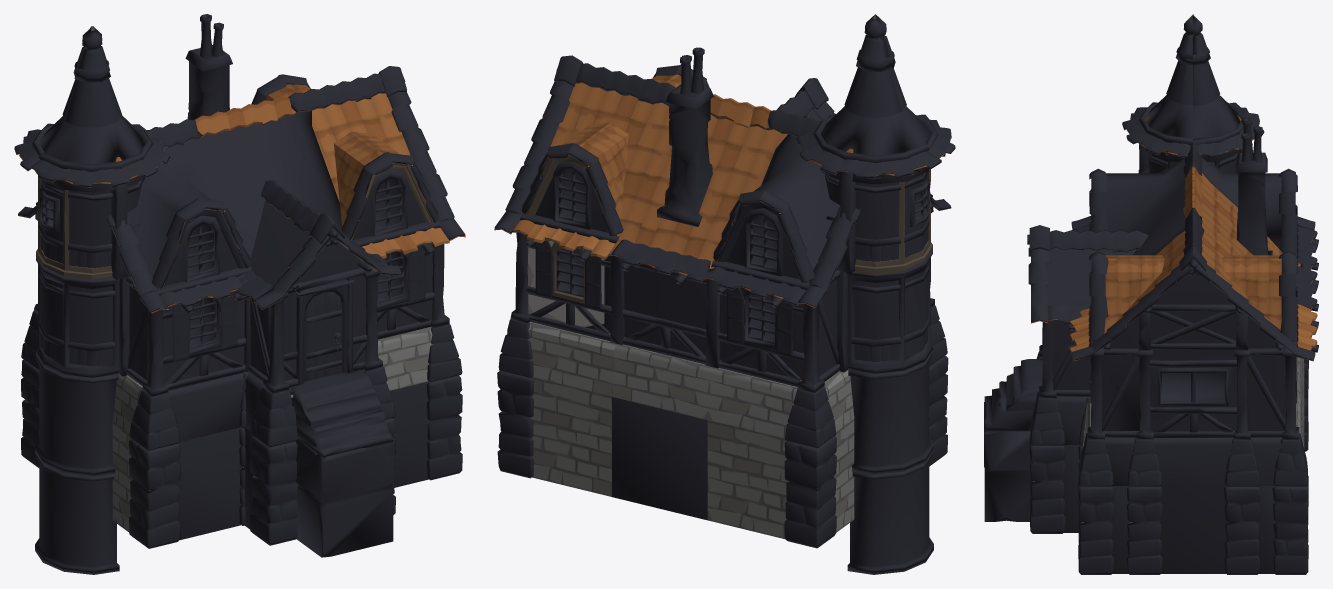
Rendered from SM_Bld_Preset_House_09_C_Optimized.fbx.
3 renders of one model, left to right at view 1: azimuth 30°, elevation 25°; view 2: azimuth 150°, elevation 25°; view 3: azimuth 270°, elevation 25°, orthographic. The views are drawn at different scales.
Visible parts, largest first — view 1: SM_Bld_Preset_House_09_C_Optimized_Outline, SM_Bld_Preset_House_09_C_Optimized; view 2: SM_Bld_Preset_House_09_C_Optimized_Outline, SM_Bld_Preset_House_09_C_Optimized; view 3: SM_Bld_Preset_House_09_C_Optimized_Outline, SM_Bld_Preset_House_09_C_Optimized.
Part boxes in pixels (bbox=[...]): SM_Bld_Preset_House_09_C_Optimized_Outline: bbox=[14, 14, 465, 574]; SM_Bld_Preset_House_09_C_Optimized: bbox=[16, 26, 465, 532]; SM_Bld_Preset_House_09_C_Optimized_Outline: bbox=[494, 15, 955, 574]; SM_Bld_Preset_House_09_C_Optimized: bbox=[494, 14, 951, 538]; SM_Bld_Preset_House_09_C_Optimized_Outline: bbox=[984, 15, 1318, 574]; SM_Bld_Preset_House_09_C_Optimized: bbox=[1031, 14, 1317, 522].
Bounding box in the file's own units: 1005 × 1338 × 861.
